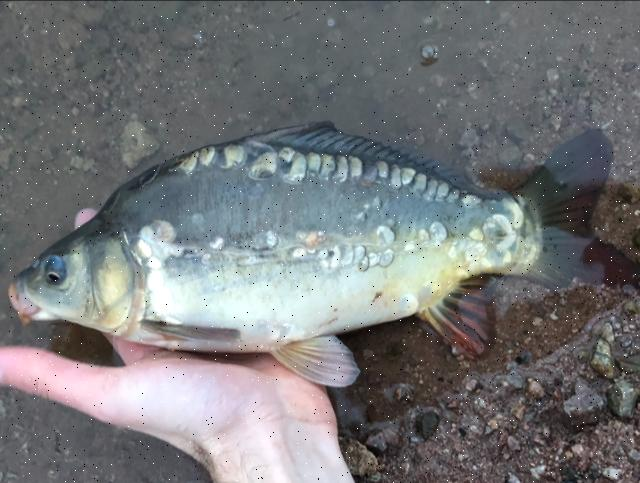Mulut: (0, 254, 48, 346)
Sirip Anal: (419, 274, 505, 370)
Sirip Dada: (136, 303, 247, 373)
Sirip Ekor: (248, 112, 500, 202)
Sirip Perut: (270, 328, 370, 398)
Sirip Punggung: (523, 120, 639, 310)
